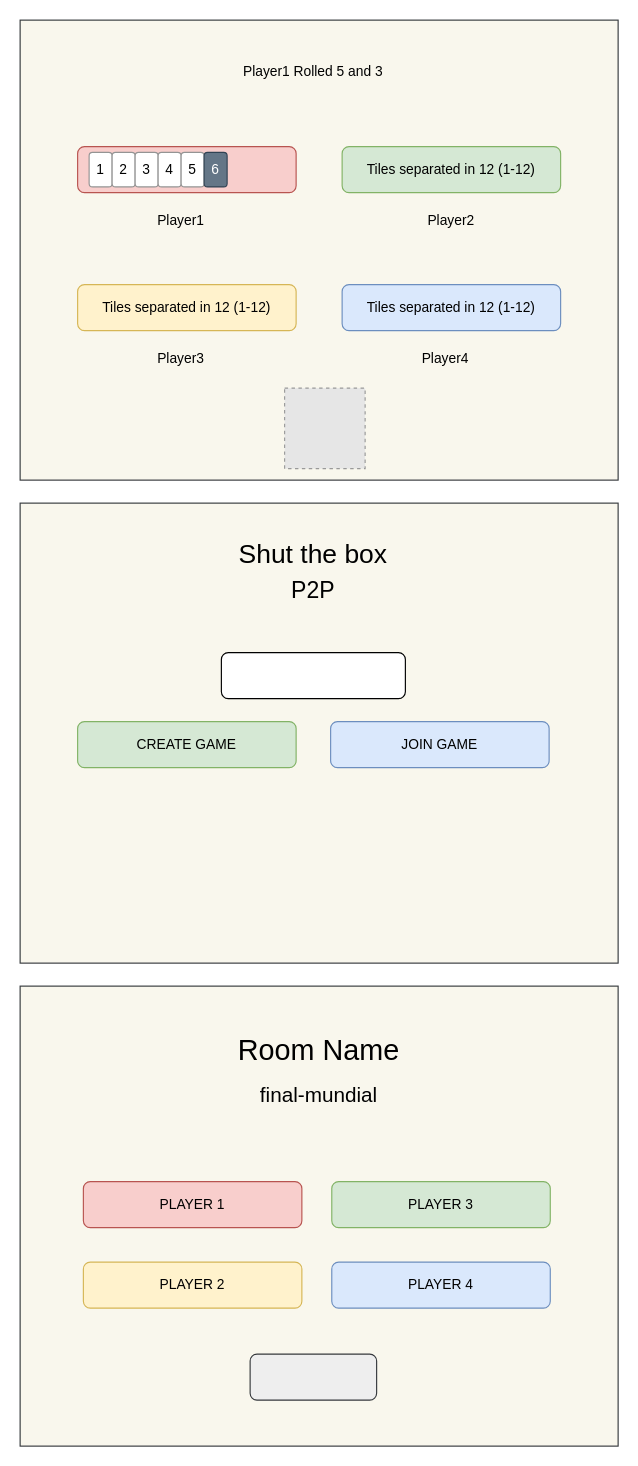
This 638x1466 diagram has some shape labels left out. Grey dashed boxes stand in for pictures. Here are the shapes that lost their labels. From the top down, the centre of each, then its label:
pixel 312 675: Input your name
pixel 313 1376: START!
